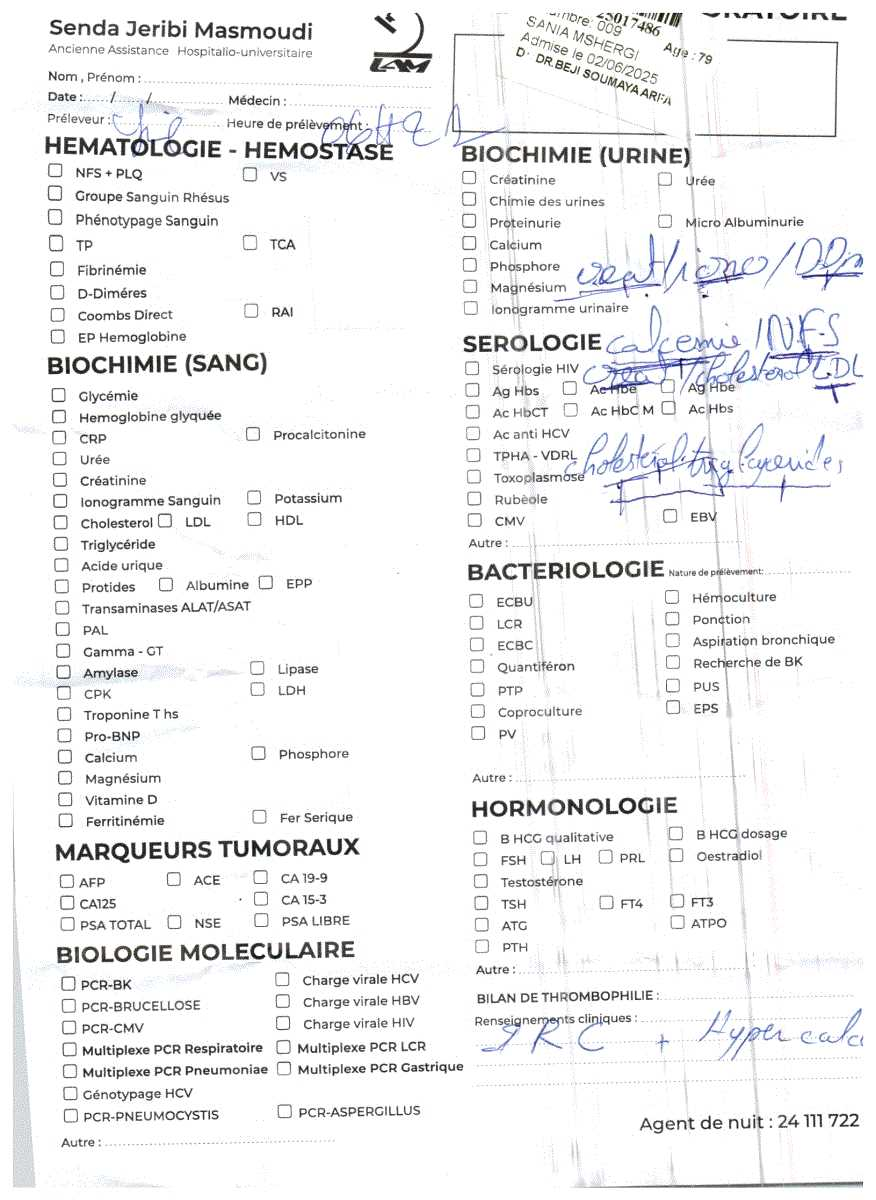zone_analyses: (30, 129, 876, 1167)
zone_date: (584, 46, 680, 62)
zone_patient: (533, 8, 701, 26)
zone_prescripteur: (509, 37, 702, 54)
